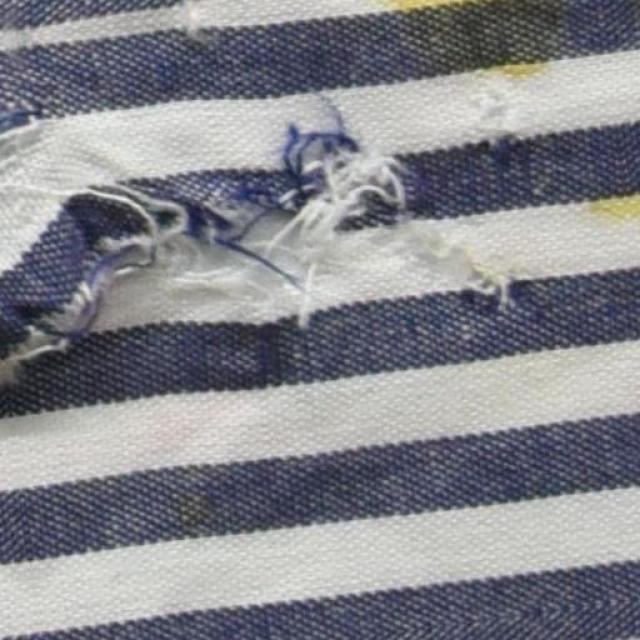cut: (0, 148, 521, 312)
stain: (389, 0, 581, 88), (571, 167, 640, 232)
